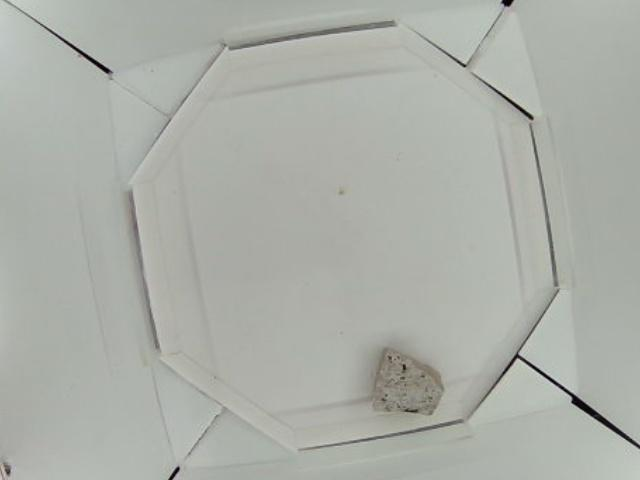China: (373, 350, 446, 417)
